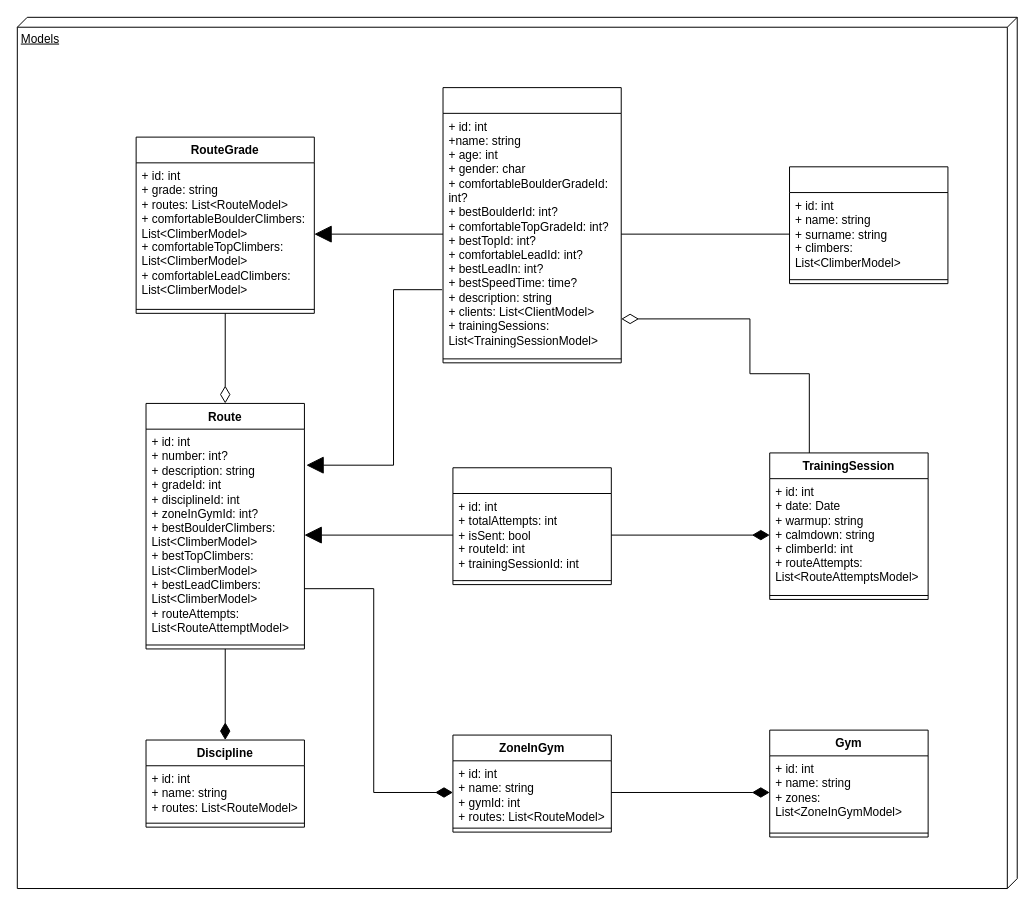
The diagram is 1035 pixels wide and 906 high, and some of its shapes have lost their labels. The box of each missing label's shape, as (x1, y1, x2, y2) in pixels:
Client: (789, 166, 948, 284)
Climber: (442, 87, 621, 363)
RouteAttempt: (452, 467, 611, 585)
